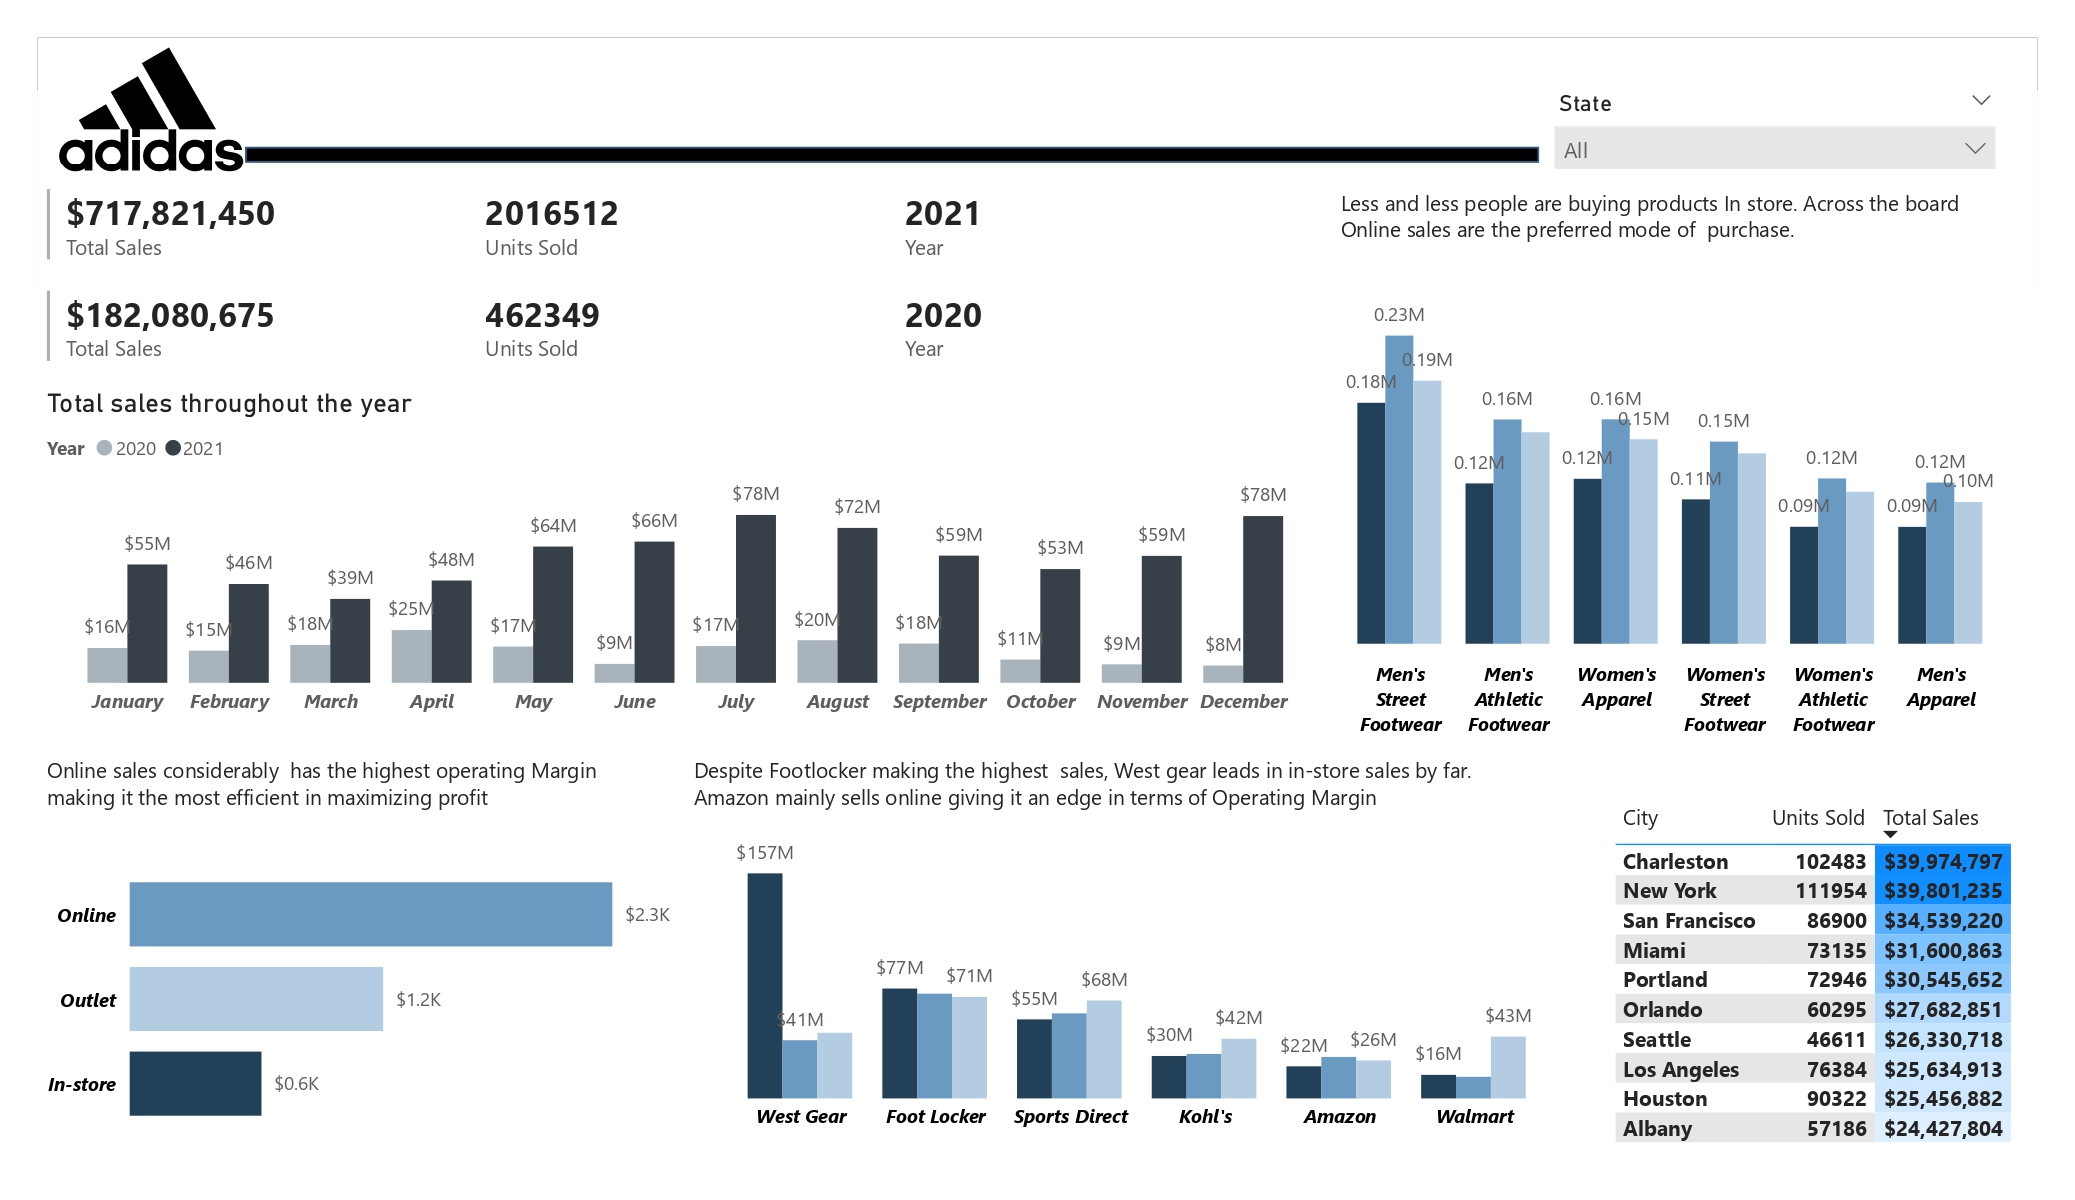

The dashboard page shown, as its layout file describes it:
{"tool":"powerbi","page":{"name":"Page 2","canvas":[1280,720],"ordinal":1},"visuals":[{"type":"multiRowCard","fields":{"Values":["Sum(adidas2.Total Sales)","Sum(adidas2.Units Sold)","adidas2.Invoice Date.Variation.Date Hierarchy.Year"]},"box":[1.5,92,827.6,148.3],"z":0},{"type":"clusteredColumnChart","title":"Total sales throughout the year","fields":{"Category":["adidas2.Invoice Date.Variation.Date Hierarchy.Month"],"Y":["Sum(adidas2.Total Sales)"],"Series":["adidas2.Invoice Date.Variation.Date Hierarchy.Year"]},"box":[1.5,224,827.6,219.5],"z":1000},{"type":"tableEx","fields":{"Values":["adidas2.City","Sum(adidas2.Units Sold)","Sum(adidas2.Total Sales)"]},"box":[1004.1,483.5,275.9,235.8],"z":2000},{"type":"clusteredColumnChart","title":"Units Sold by Product and Sales Method","fields":{"Y":["Sum(adidas2.Units Sold)"],"Category":["adidas2.Product"],"Series":["adidas2.Sales Method"]},"box":[802.4,152.8,476.1,302.6],"z":3000},{"type":"clusteredBarChart","fields":{"Category":["adidas2.Sales Method"],"Y":["Sum(adidas2.Operating Margin)"]},"box":[0,505.8,415.3,213.6],"z":4000},{"type":"clusteredColumnChart","fields":{"Y":["Sum(adidas2.Total Sales)"],"Category":["adidas2.Retailer"],"Series":["adidas2.Sales Method"]},"box":[415.3,495.4,578.4,213.6],"z":5000},{"type":"slicer","fields":{"Values":["adidas2.State"]},"box":[961.3,29.3,301.3,81.3],"z":6000},{"type":"shape","box":[133.5,69.7,827.6,10.4],"z":7000},{"type":"image","box":[0,0,145.4,92],"z":8000},{"type":"textbox","box":[1.5,455.3,399,50.4],"z":9000},{"type":"textbox","box":[415.3,455.3,508.7,50.4],"z":10000},{"type":"textbox","box":[829.1,92,433.1,72.7],"z":11000}]}

Visuals, with their boxes in screenshot pixels (x1, y1, x2, y2):
multiRowCard - Sum(adidas2.Total Sales) x Sum(adidas2.Units Sold): crop(40, 181, 1333, 413)
"Total sales throughout the year" clusteredColumnChart: crop(40, 388, 1333, 730)
tableEx - adidas2.City x Sum(adidas2.Units Sold): crop(1606, 793, 2038, 1161)
"Units Sold by Product and Sales Method" clusteredColumnChart: crop(1291, 276, 2035, 749)
clusteredBarChart - adidas2.Sales Method x Sum(adidas2.Operating Margin): crop(38, 828, 686, 1162)
clusteredColumnChart - Sum(adidas2.Total Sales) x adidas2.Retailer: crop(686, 812, 1590, 1145)
slicer - adidas2.State: crop(1540, 83, 2010, 210)
shape: crop(246, 146, 1539, 163)
image: crop(38, 38, 265, 181)
textbox: crop(40, 749, 663, 828)
textbox: crop(686, 749, 1481, 828)
textbox: crop(1333, 181, 2010, 295)
